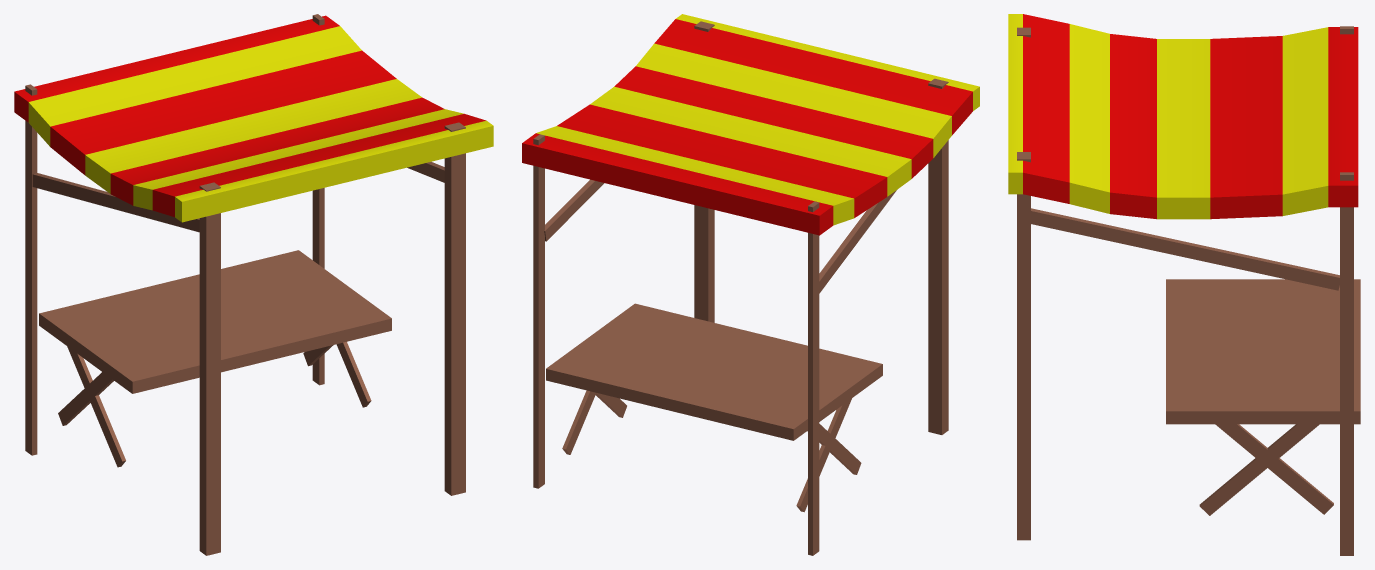
The model's file is Low Poly Market Stall 1.fbx.
3 renders of one model, left to right at view 1: azimuth 30°, elevation 25°; view 2: azimuth 150°, elevation 25°; view 3: azimuth 270°, elevation 25°, orthographic. The views are drawn at different scales.
Parts seen in each view (by area): view 1: pCube8, pCube1, pCube7, pCube6, pCube10, pCube11, pCube9, pCube2, pCube3, pCube4; view 2: pCube8, pCube1, pCube6, pCube9, pCube10, pCube7, pCube11, pCube12, pCube3, pCube2, pCube5; view 3: pCube8, pCube1, pCube12, pCube9, pCube7, pCube4, pCube5.
Part boxes in pixels (<box>): pCube8: <box>14,15,493,222</box>; pCube1: <box>39,250,391,393</box>; pCube7: <box>444,122,465,495</box>; pCube6: <box>199,182,220,555</box>; pCube10: <box>25,84,37,455</box>; pCube11: <box>32,173,199,232</box>; pCube9: <box>312,14,324,385</box>; pCube2: <box>67,346,125,467</box>; pCube3: <box>58,372,113,425</box>; pCube4: <box>336,342,371,407</box>; pCube8: <box>522,14,979,235</box>; pCube1: <box>546,303,882,440</box>; pCube6: <box>928,78,948,434</box>; pCube9: <box>533,134,544,488</box>; pCube10: <box>808,201,819,555</box>; pCube7: <box>694,21,714,322</box>; pCube11: <box>819,190,896,293</box>; pCube12: <box>544,179,604,241</box>; pCube3: <box>796,398,851,512</box>; pCube2: <box>807,424,861,474</box>; pCube5: <box>562,390,596,454</box>; pCube8: <box>1008,14,1358,219</box>; pCube1: <box>1166,279,1360,424</box>; pCube12: <box>1031,208,1339,290</box>; pCube9: <box>1340,172,1353,555</box>; pCube7: <box>1017,152,1030,540</box>; pCube4: <box>1199,424,1319,515</box>; pCube5: <box>1215,424,1333,514</box>.
Size of the model in its own units: 15.77 by 18.06 by 14.8.
